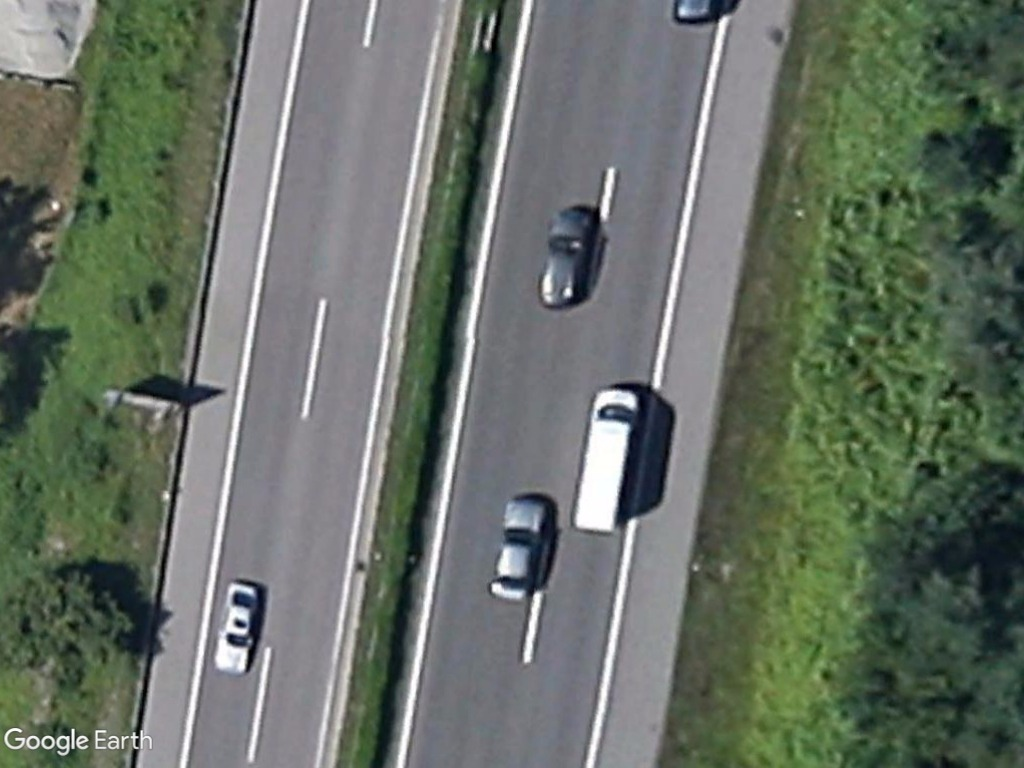car: (530, 197, 597, 314), (486, 493, 552, 610), (205, 574, 261, 680)
van: (570, 378, 640, 540)
